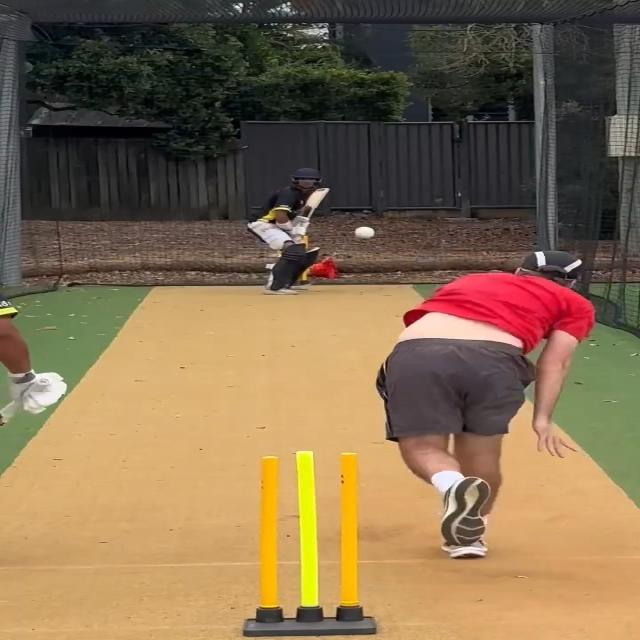ball: (351, 225, 376, 242)
stump: (246, 448, 375, 636)
